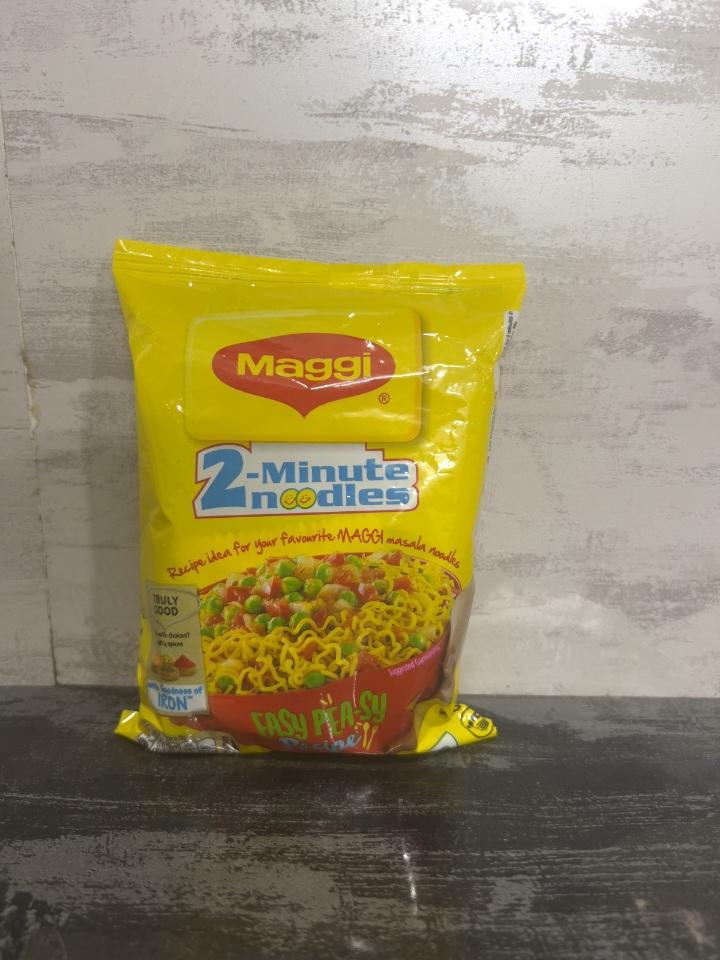Maggi: (118, 253, 522, 757)
